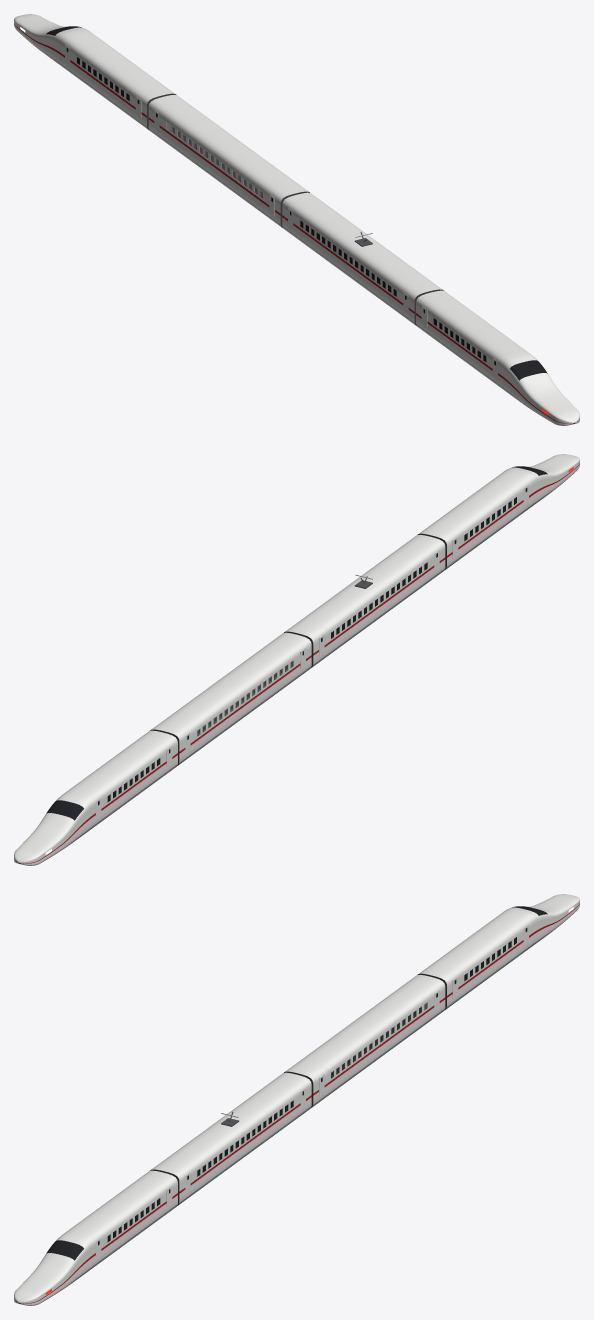
File: shinkansen.glb
3 views of the same model, one above another, from view 1: azimuth 30°, elevation 25°; view 2: azimuth 150°, elevation 25°; view 3: azimuth 330°, elevation 25° (orthographic).
Parts seen in each view (by area): view 1: car_4_tail_body, car_3_body, car_2_body, car_1_lead_body; view 2: car_1_lead_body, car_3_body, car_2_body, car_4_tail_body; view 3: car_4_tail_body, car_3_body, car_2_body, car_1_lead_body.
Boxes of the visible parts, box(x1,y1,x2,y2) form: car_4_tail_body: box(416, 290, 579, 425); car_3_body: box(282, 192, 443, 325); car_2_body: box(148, 95, 309, 227); car_1_lead_body: box(14, 14, 176, 129); car_1_lead_body: box(14, 730, 177, 865); car_3_body: box(284, 535, 445, 667); car_2_body: box(150, 632, 311, 765); car_4_tail_body: box(417, 454, 579, 569); car_4_tail_body: box(14, 1170, 177, 1305); car_3_body: box(150, 1072, 311, 1205); car_2_body: box(284, 975, 445, 1107); car_1_lead_body: box(417, 894, 579, 1009).
Bounding box in the file's own units: 3.41 × 4.61 × 105.
